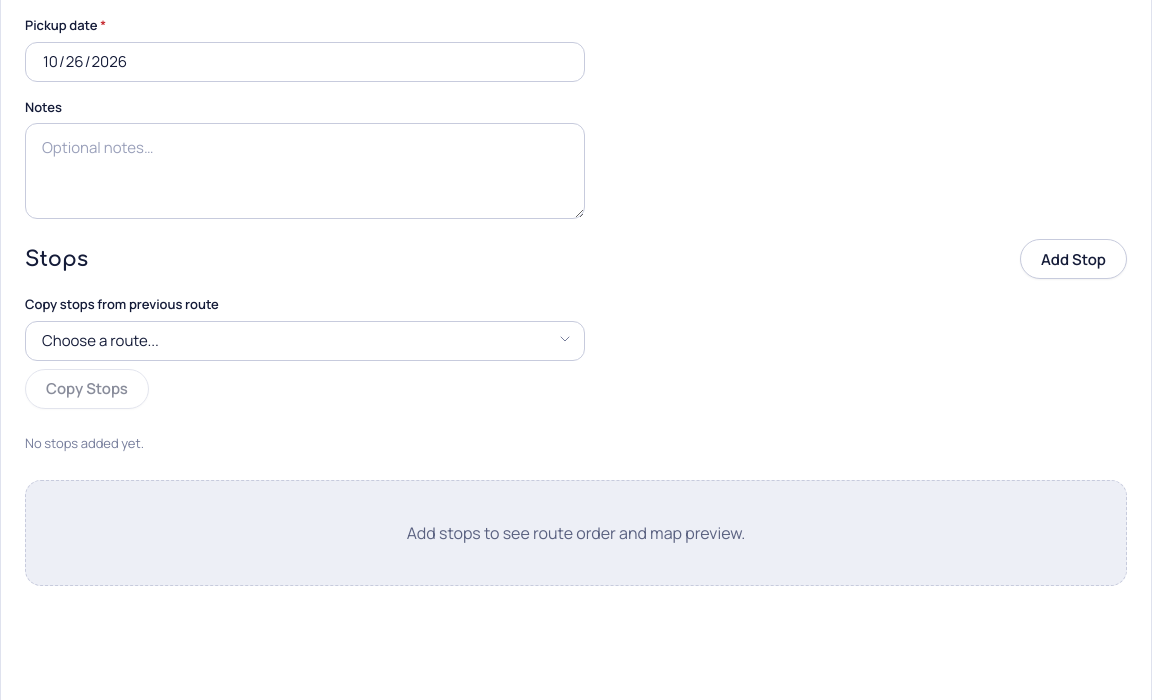
it: NewRoutePage Route Request › Schedule Diff › shows an accepted Add in the form’s own Stops, and never submits the form by deciding a line
(page scrolled)
Select "OLD-1" in the dropdown labelled "Copy stops from previous route". click: (305, 341)
box: [25, 321, 585, 361]
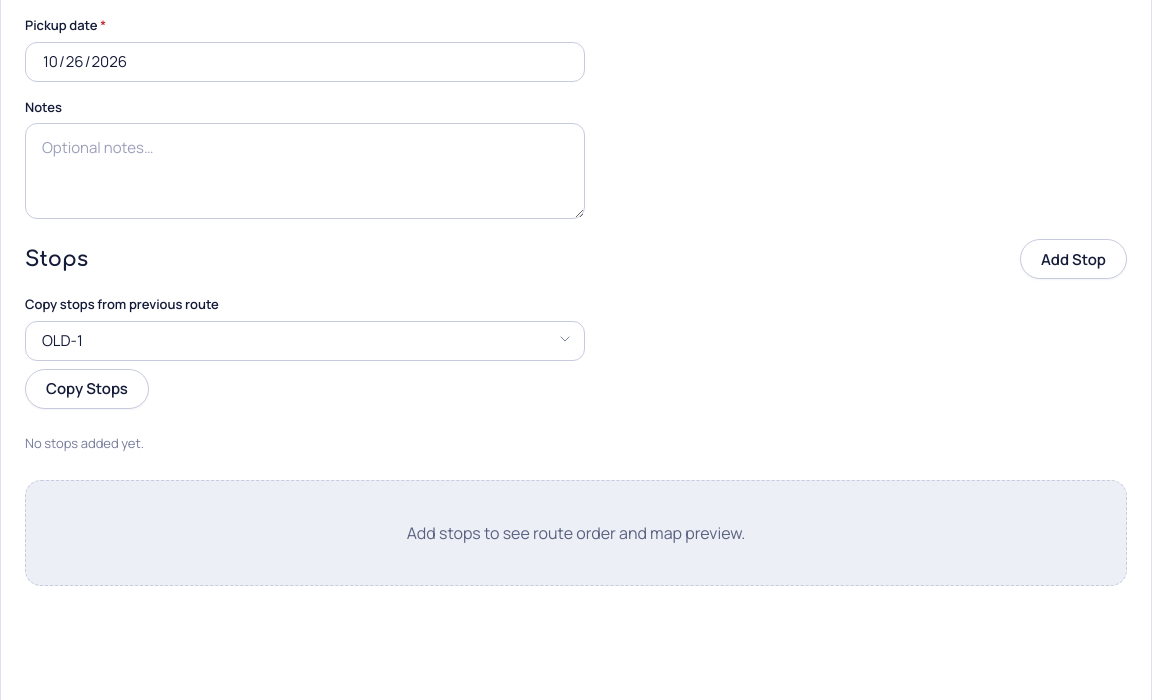
Click the button "Copy Stops". click: (87, 389)
box: [25, 369, 149, 409]
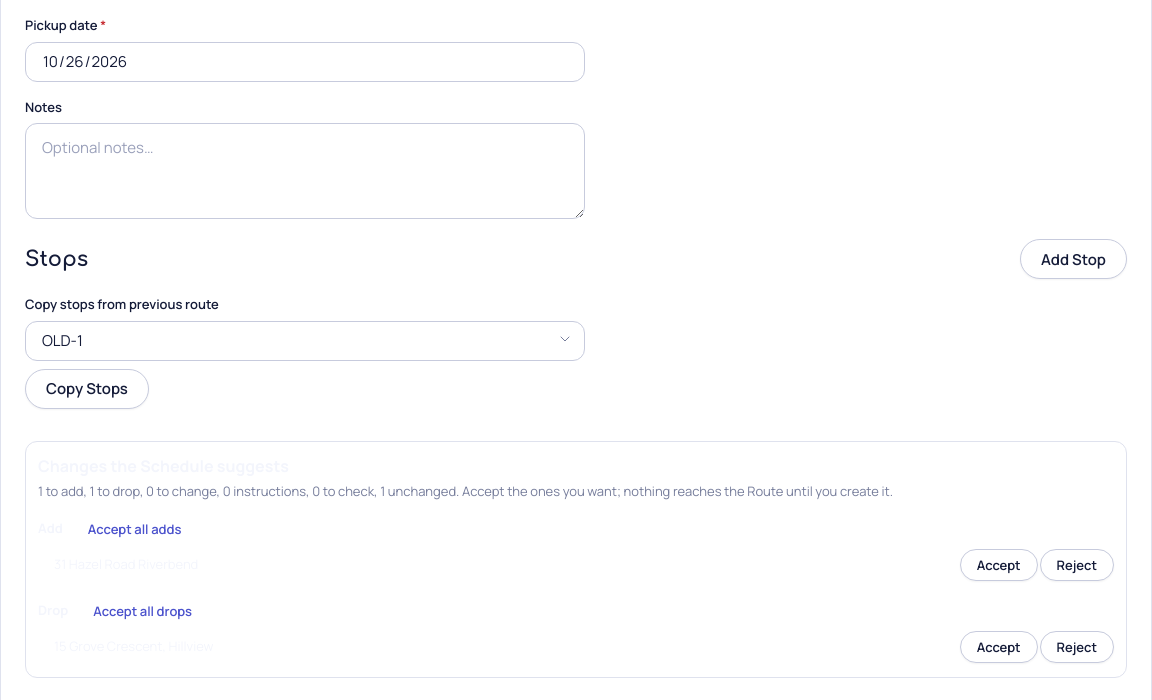
Result: the element named "Schedule Diff" is shown at [25, 441, 1127, 678]
Click the button with aria-label "Accept: add 31 Hazel Road Riverbend". click: (999, 565)
box: [960, 549, 1038, 581]
(page scrolled)
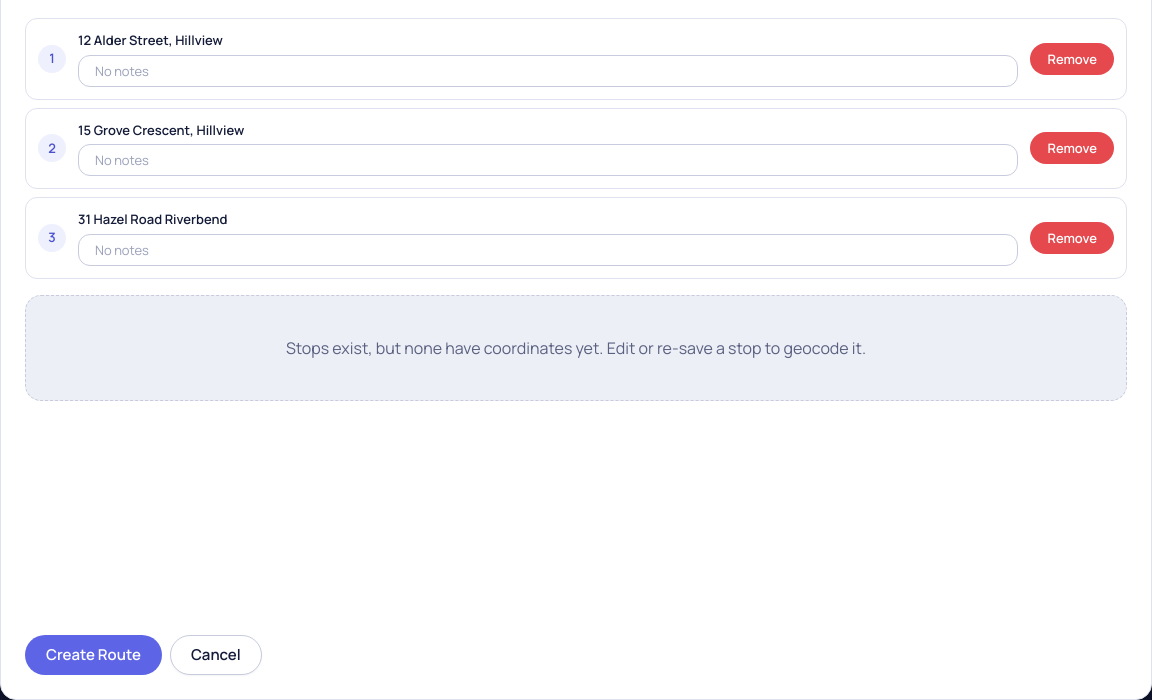
Expected: the button "Create Route" is enabled, [25, 635, 162, 675]
Result: the field named "Notes for stop 3, 31 Hazel Road Riverbend" is shown at [78, 234, 1018, 266]
